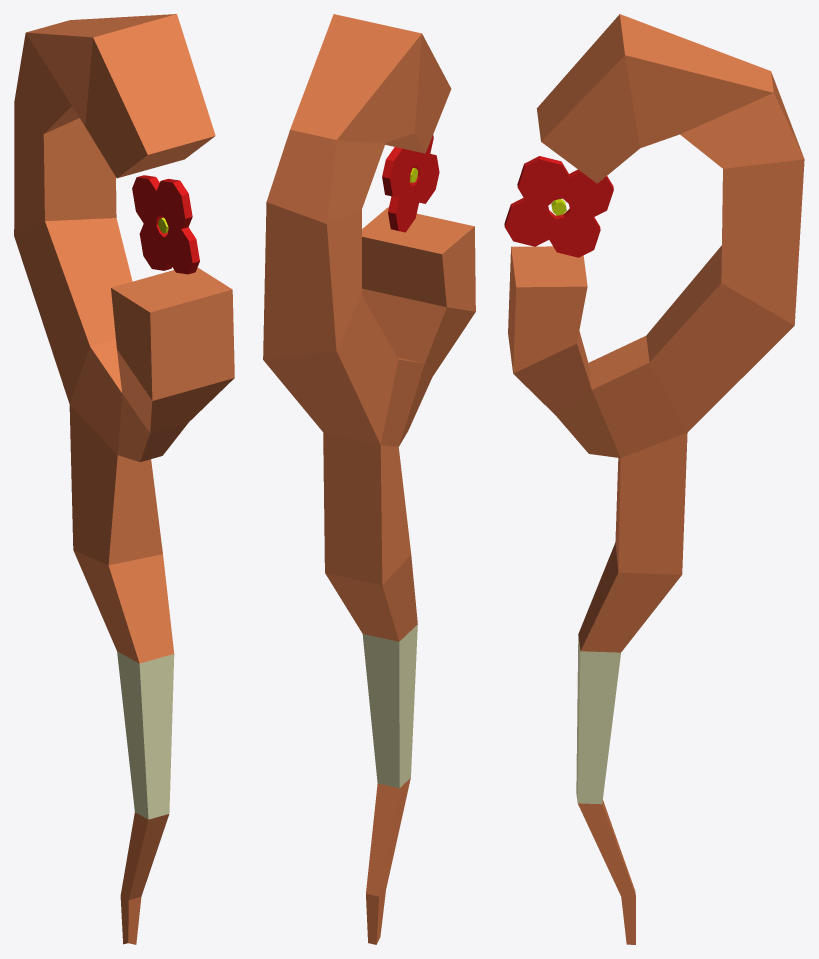
Rendered from Staff.fbx.
The picture shows the model from 3 angles, left to right: view 1: azimuth 30°, elevation 25°; view 2: azimuth 150°, elevation 25°; view 3: azimuth 270°, elevation 25°; orthographic projection.
Parts seen in each view (by area): view 1: Fairy.001; view 2: Fairy.001; view 3: Fairy.001.
Part boxes in pixels (<box>): Fairy.001: <box>14,14,234,944</box>; Fairy.001: <box>263,14,475,944</box>; Fairy.001: <box>504,14,804,944</box>.
Bounding box in the file's own units: 6.14 × 60.95 × 18.24.
